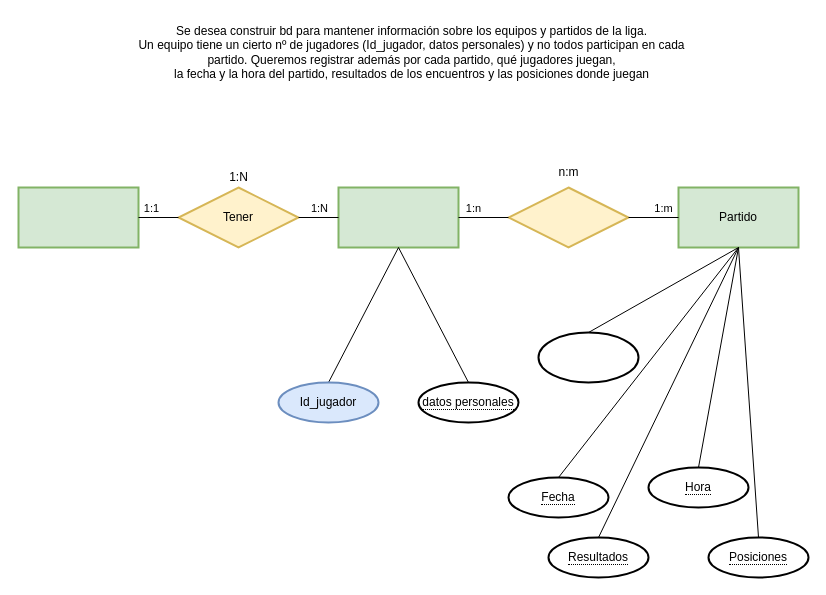
This 826x595 diagram has some shape labels left out. The shapes that lost their labels are listed below. From the top down, each one's box as (x1, y1, x2, y2) in pixels, then its label:
(17, 186, 139, 248): Equipo
(337, 186, 459, 248): Jugadores
(507, 186, 629, 248): Participar
(537, 331, 639, 383): Jugadores que juegan
